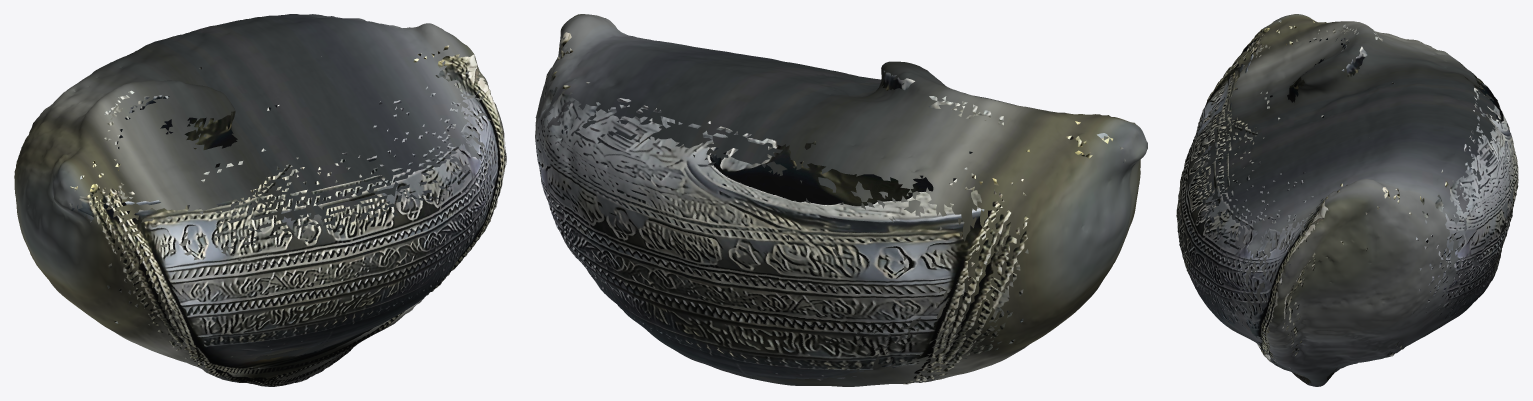
File: kfl-2165.glb
3 renders of one model, left to right at view 1: azimuth 30°, elevation 25°; view 2: azimuth 150°, elevation 25°; view 3: azimuth 270°, elevation 25°, orthographic. The views are drawn at different scales.
Visible parts, largest first — view 1: kfl-2165; view 2: kfl-2165; view 3: kfl-2165.
Part boxes in pixels (x1,y1,x2,y2): kfl-2165: (14, 14, 506, 386); kfl-2165: (535, 14, 1147, 386); kfl-2165: (1176, 14, 1518, 386).
Bounding box in the file's own units: 0.9877 × 0.6241 × 0.7032.
Materials: 4 (4 with a texture image).
